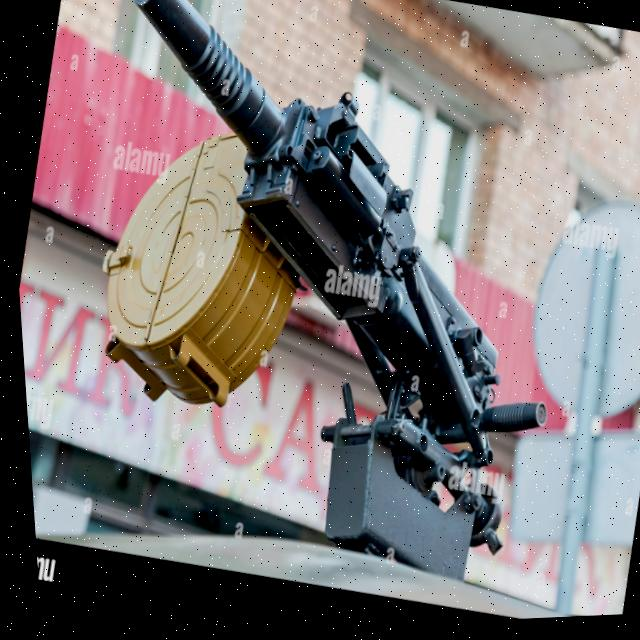firearm: (29, 0, 627, 582)
